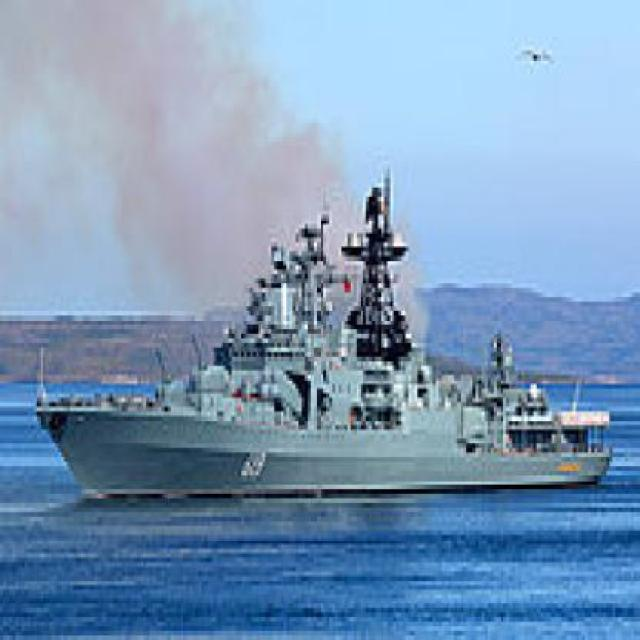warship2: (23, 170, 623, 523)
